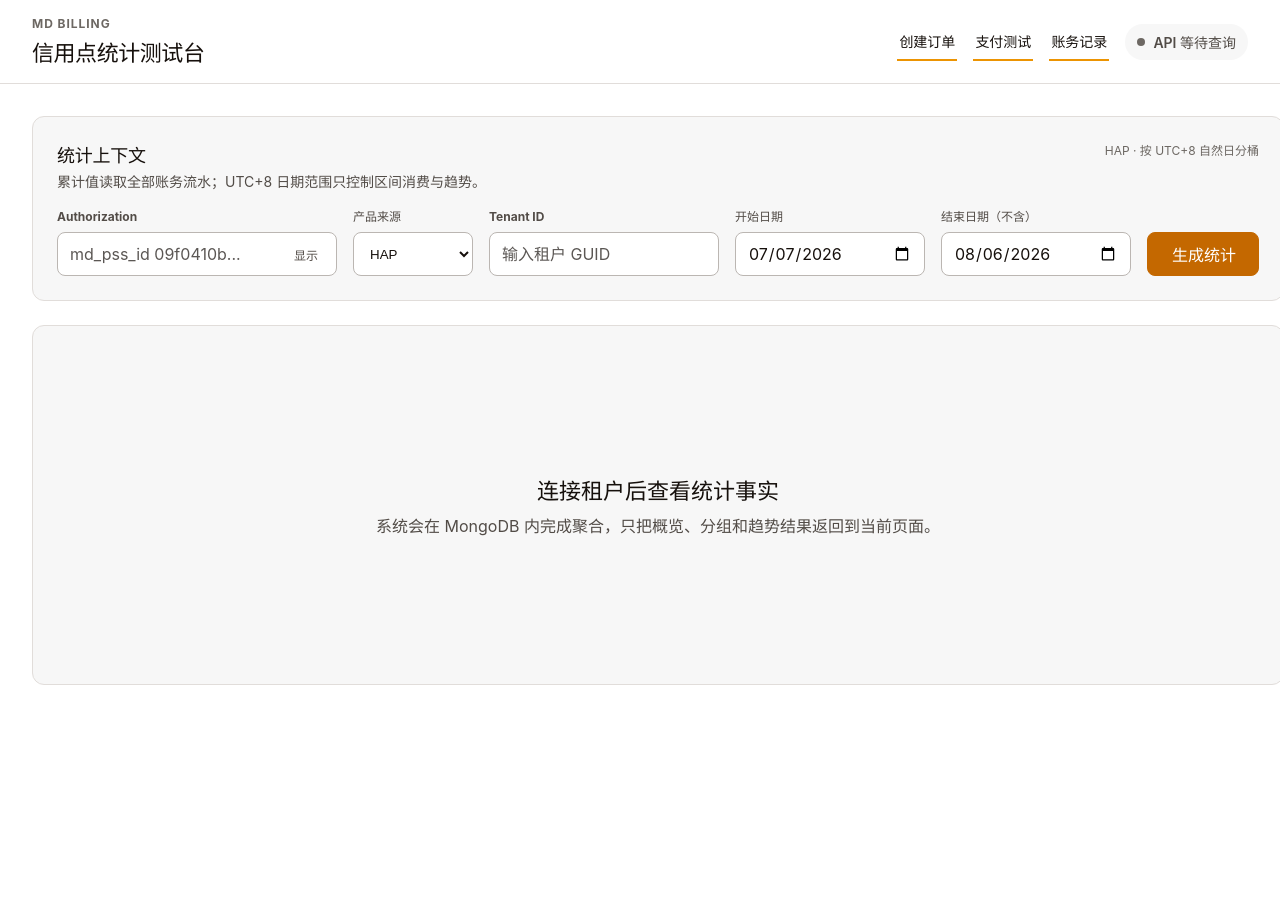
Scenario: credit point statistics page › switches HDP statistics to workspace and resource dimensions
Type "md_pss_id session-token" into the password field labelled "Authorization".
click(197, 254); type("md_pss_id session-token")  # box x1=57 y1=232 x2=337 y2=276
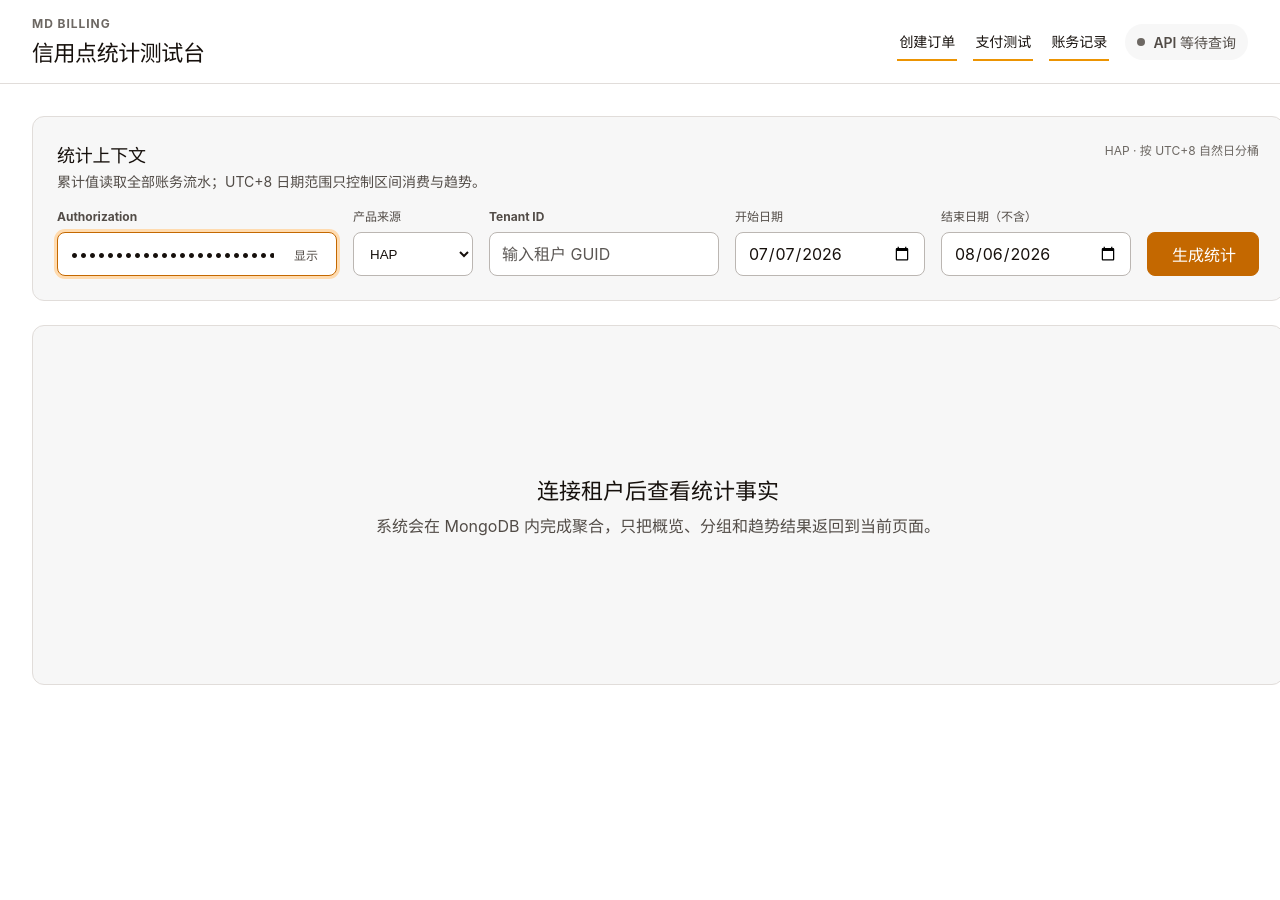
Select "HDP" in the dropdown labelled "产品来源" at point(413, 254), box x1=353 y1=232 x2=473 y2=276
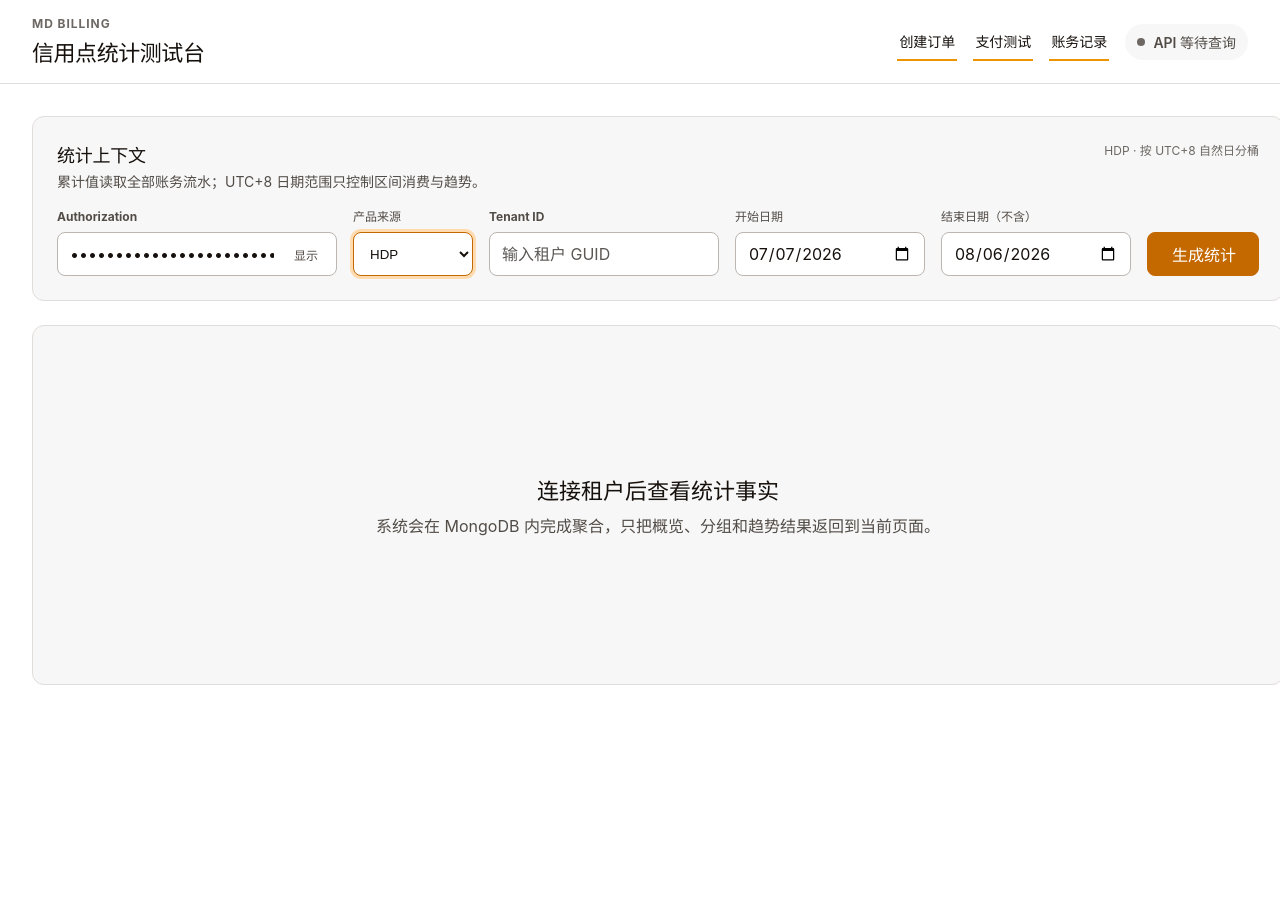
Type "tenant-1" into the field labelled "Tenant ID".
click(604, 254); type("tenant-1")  # box x1=489 y1=232 x2=719 y2=276
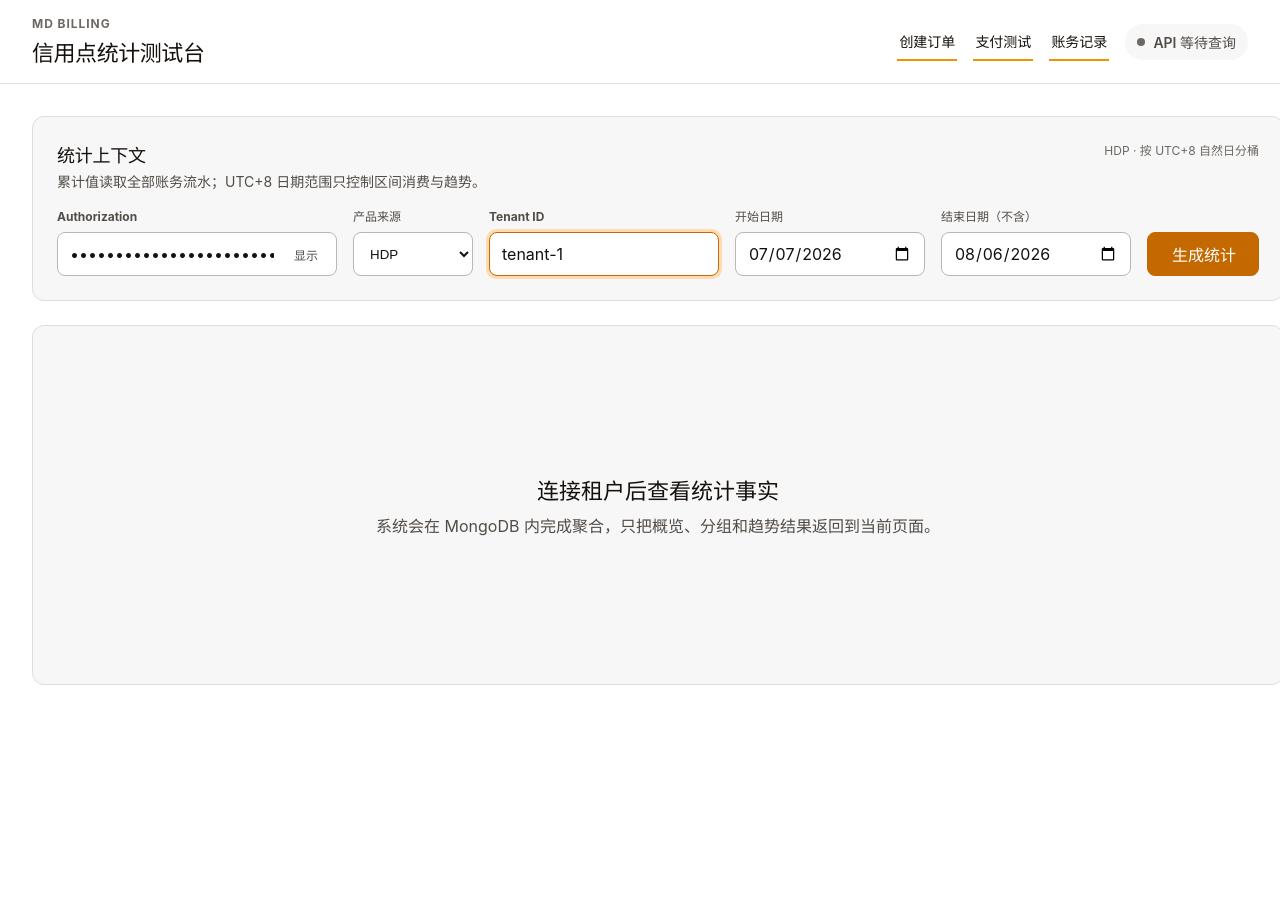
Click the button "生成统计".
click(1203, 254)  # box x1=1147 y1=232 x2=1259 y2=276
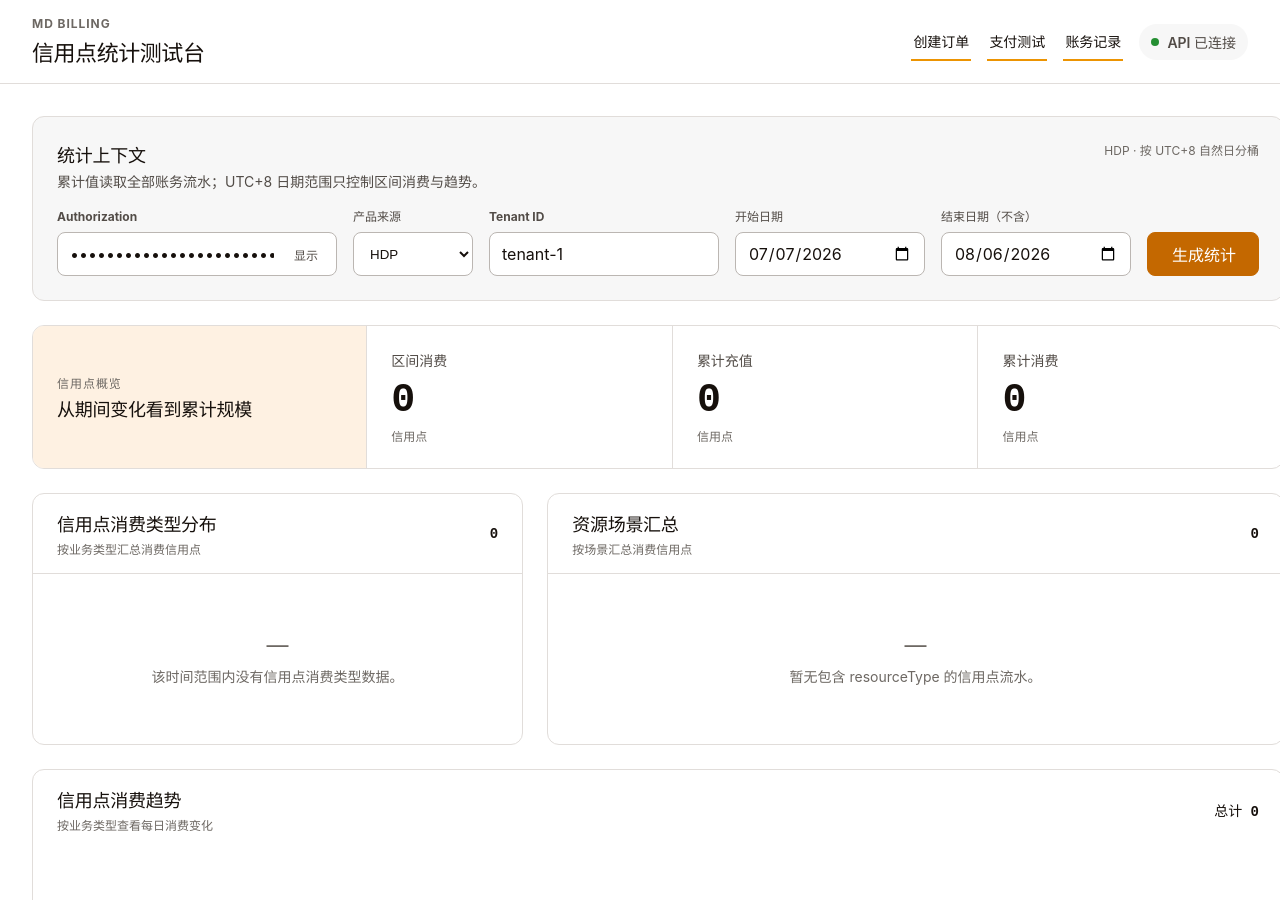
Now the heading "资源场景汇总" is shown, box x1=572 y1=510 x2=692 y2=536
